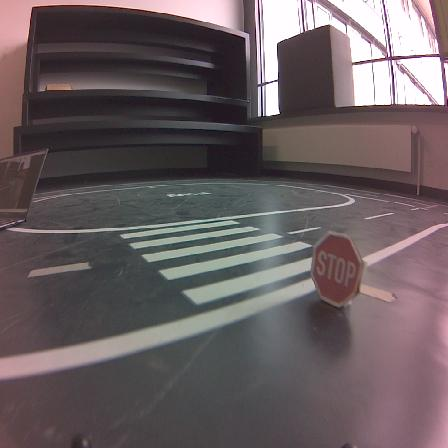STOP: (311, 232, 363, 306)
